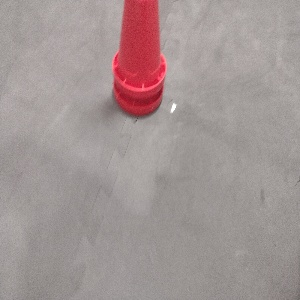Red_2: (111, 0, 166, 116)
